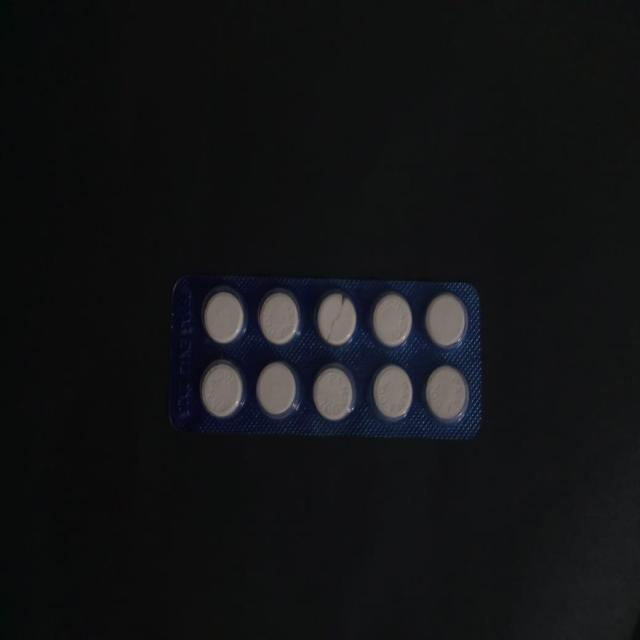defect: (314, 288, 360, 349)
